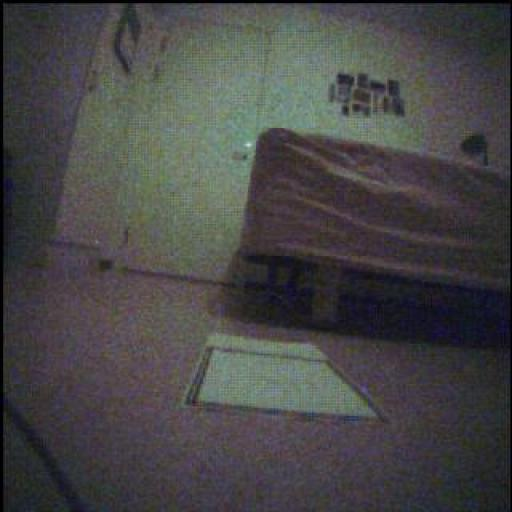pad: (185, 334, 385, 422)
